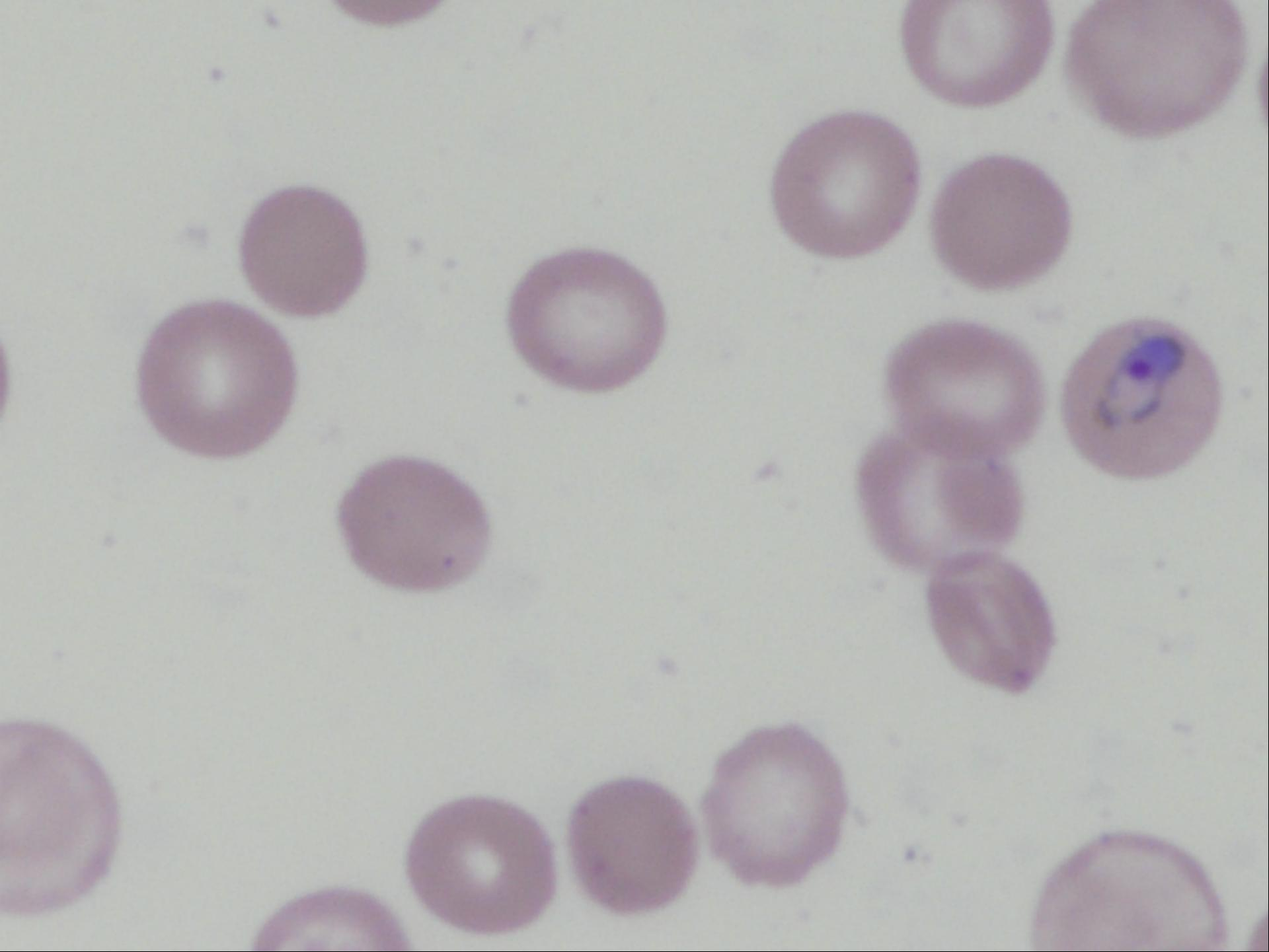Infected: (1053, 314, 1224, 480)
Uninfected: (136, 301, 295, 455), (701, 725, 848, 884), (1069, 1, 1241, 132), (770, 110, 919, 255), (508, 248, 664, 386), (884, 321, 1044, 453), (860, 439, 1023, 568), (338, 457, 493, 591), (405, 796, 555, 934), (932, 157, 1074, 291), (923, 556, 1055, 694), (567, 780, 697, 915), (239, 184, 369, 314), (903, 0, 1054, 105)
